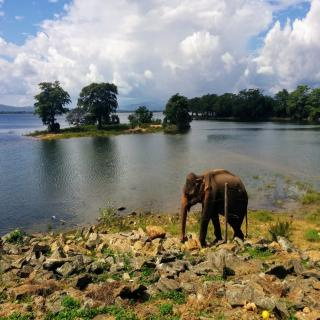Elephant: (179, 168, 250, 244)
